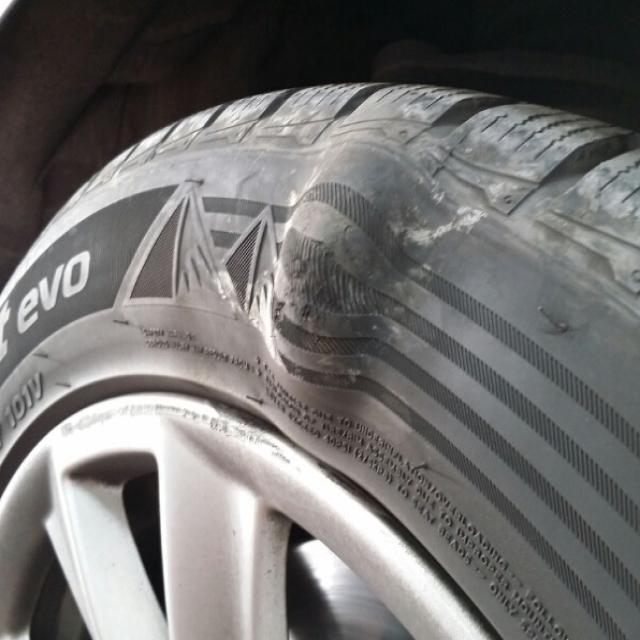Bulge: (256, 108, 471, 422)
